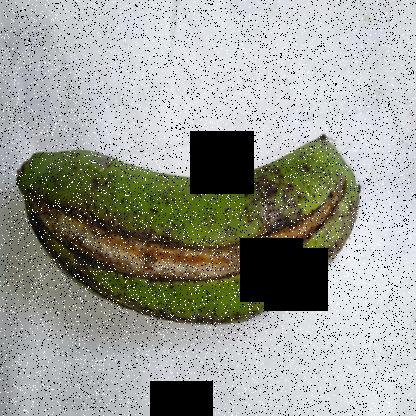rotten: (13, 169, 359, 310)
